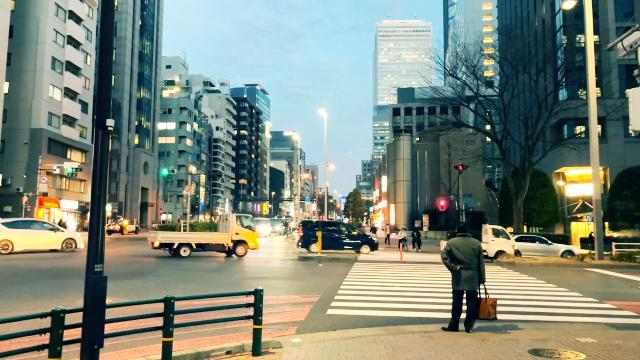berdiri: (432, 222, 496, 334)
